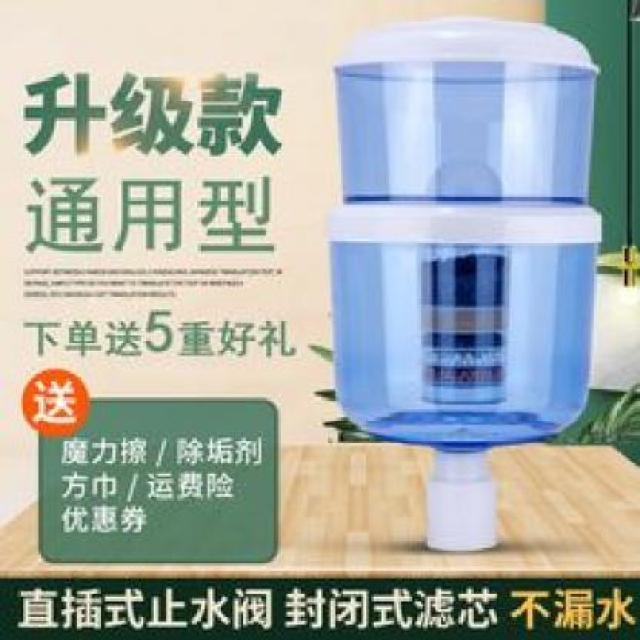coolerbottle: (320, 24, 607, 454)
